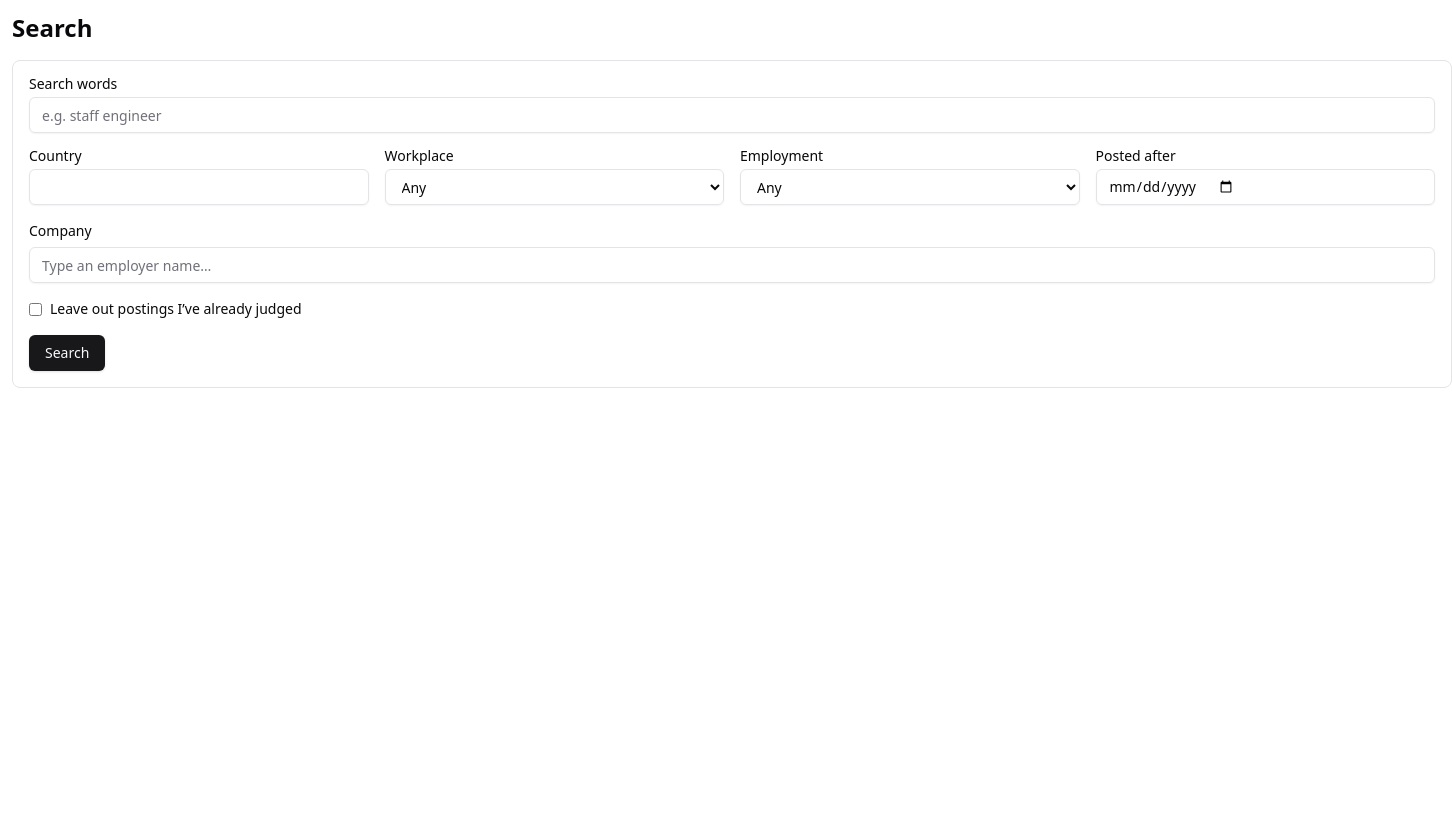
Test case: SearchView › shows the covered/total prefix when the response includes an interpretation
The width and height of the screenshot is (1452, 822).
Click the button "Search" at (67, 353), box [29,335,105,371]
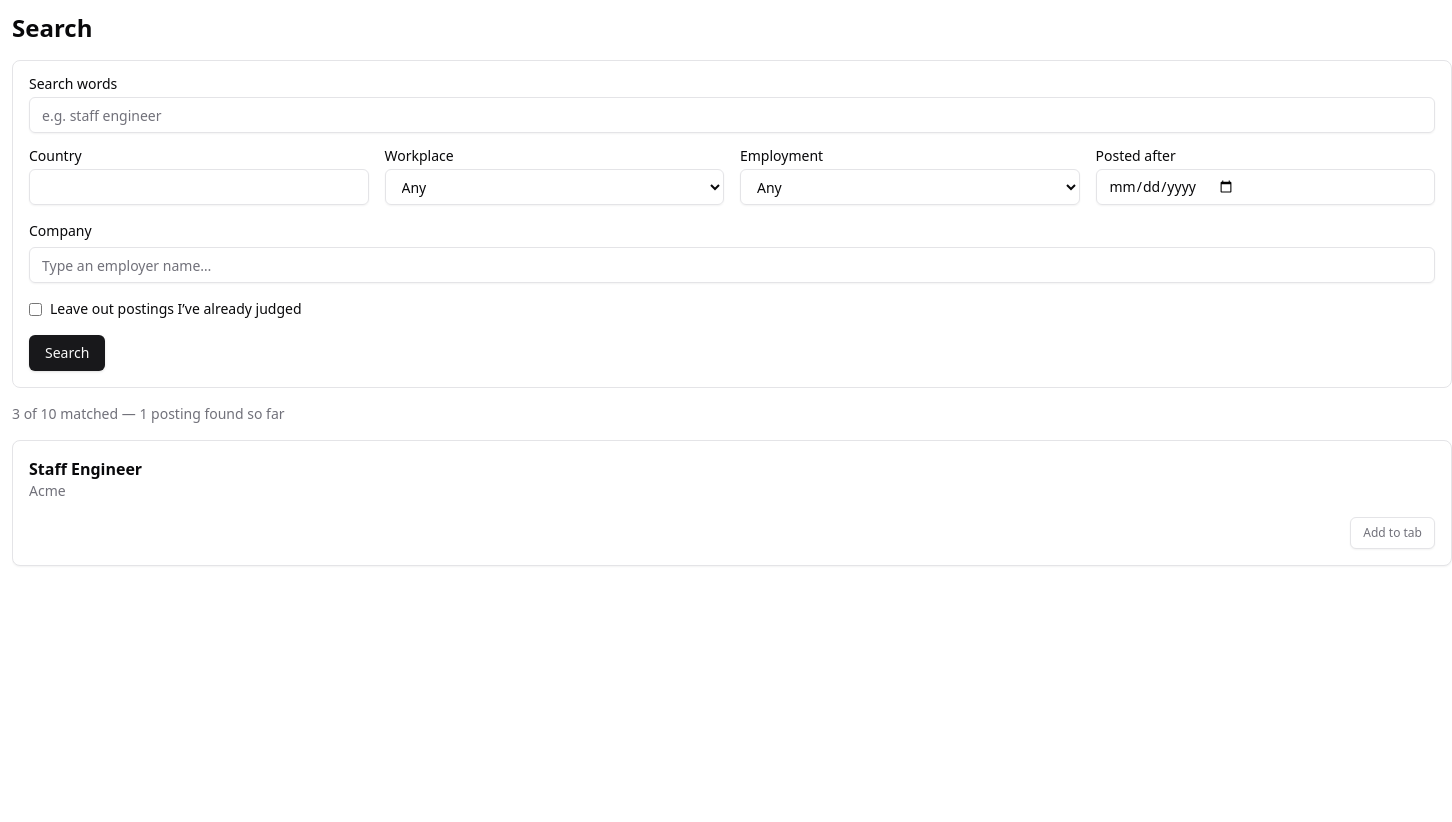
Expected: the text "3 of 10 matched — 1 posting found so far" is shown, [12,404,284,423]
